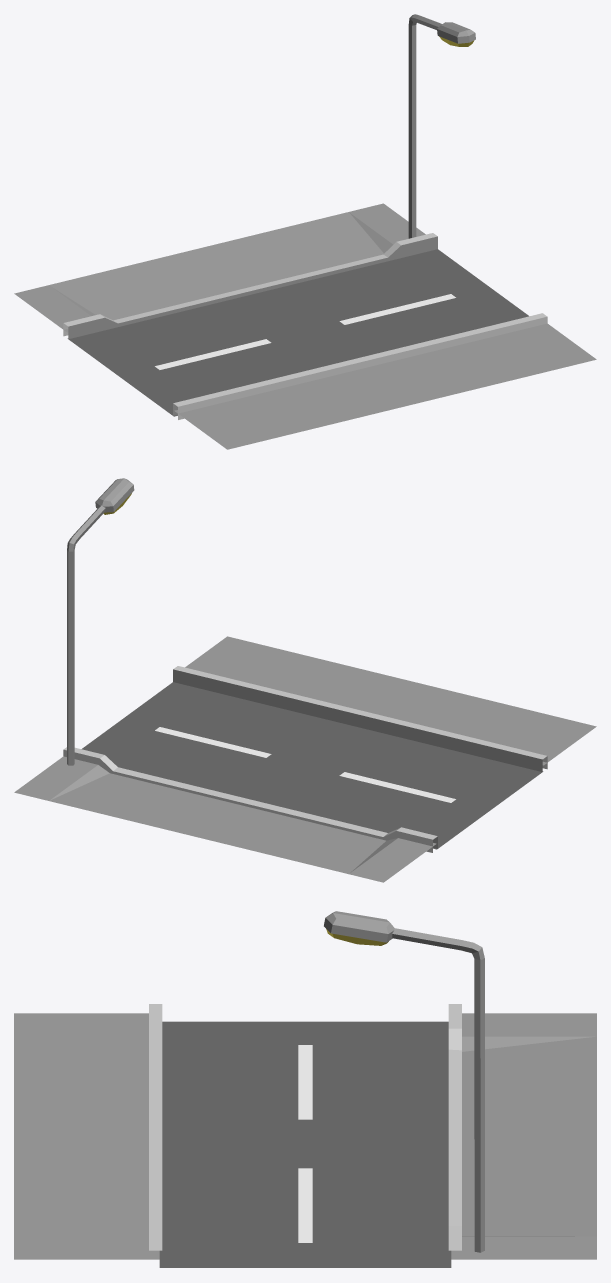
The model's file is road_tile_1x1_008.glb.
The picture shows the model from 3 angles, top to bottom: view 1: azimuth 30°, elevation 25°; view 2: azimuth 150°, elevation 25°; view 3: azimuth 270°, elevation 25°; orthographic projection. The views are drawn at different scales.
Visible parts, largest first — view 1: road_tile_1x1_008; view 2: road_tile_1x1_008; view 3: road_tile_1x1_008.
Boxes of the visible parts, x1,y1,x2,y2 form: road_tile_1x1_008: (14,14,596,449); road_tile_1x1_008: (14,478,596,882); road_tile_1x1_008: (14,911,596,1267).
Bounding box in the file's own units: 8 × 5.25 × 8.
1 material, 1 textured.
